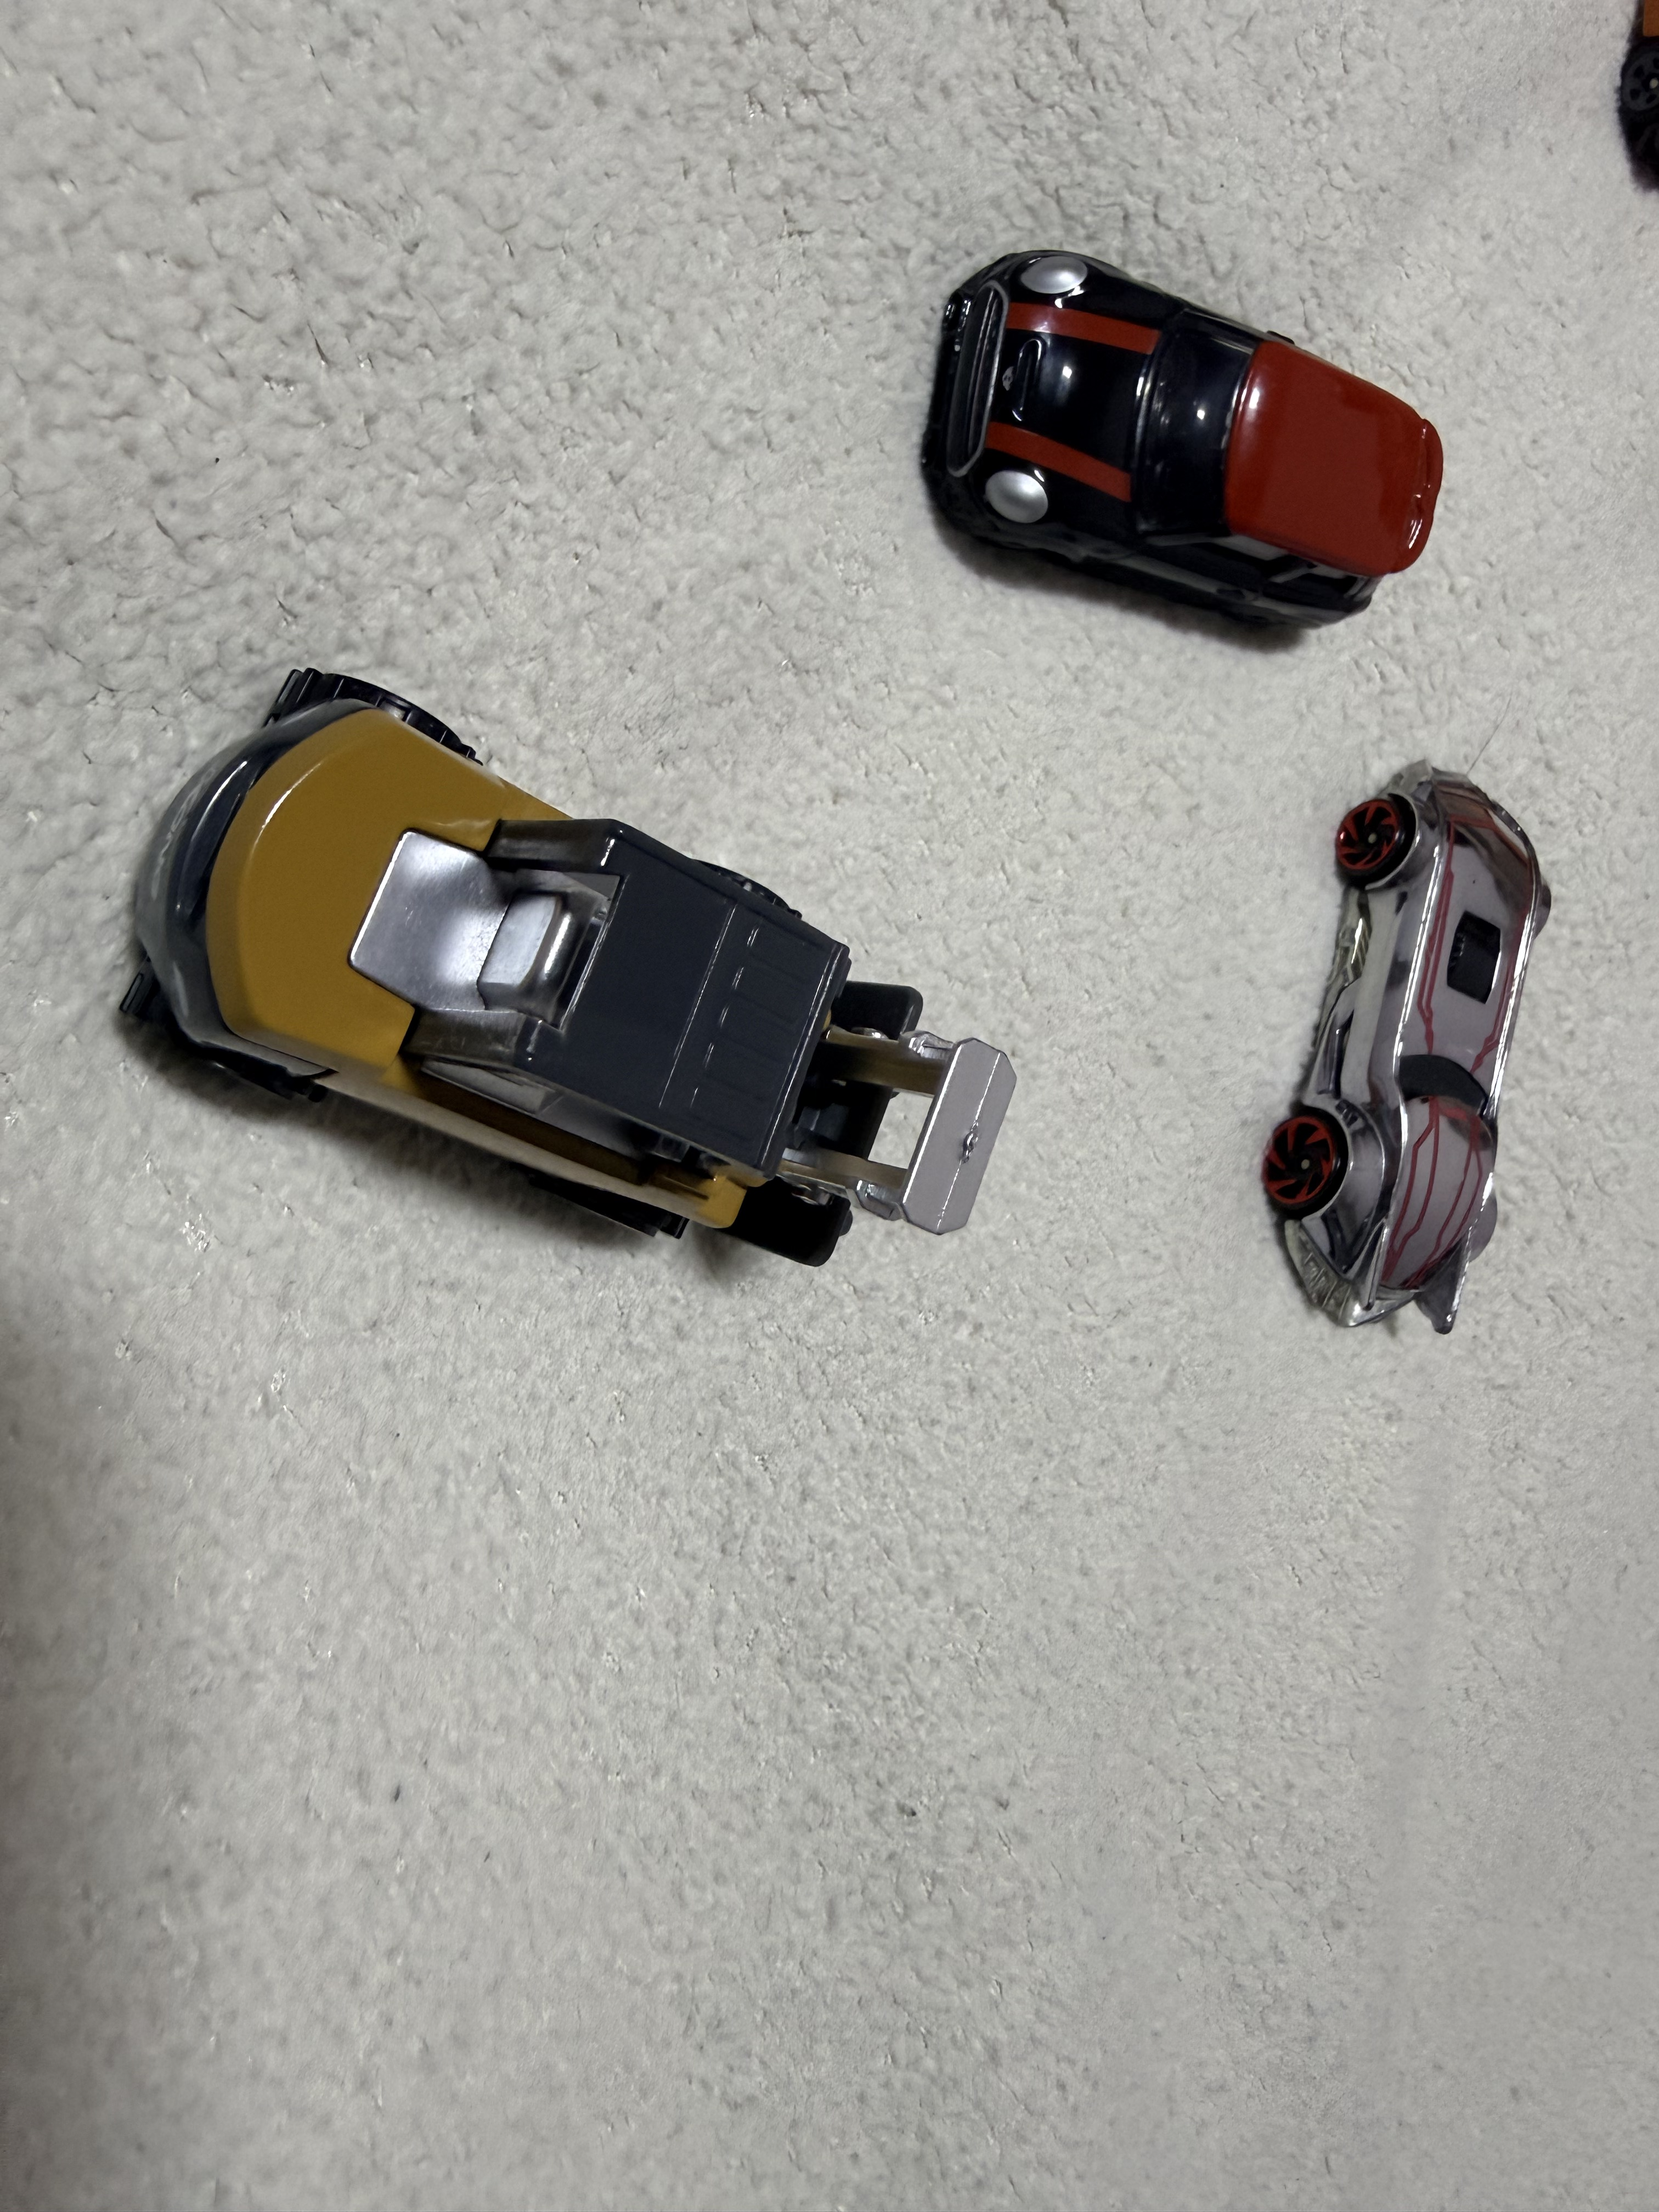dc_comics: (1260, 754, 1553, 1336)
forklift: (115, 664, 1016, 1268)
mini_cooper: (922, 247, 1448, 637)
